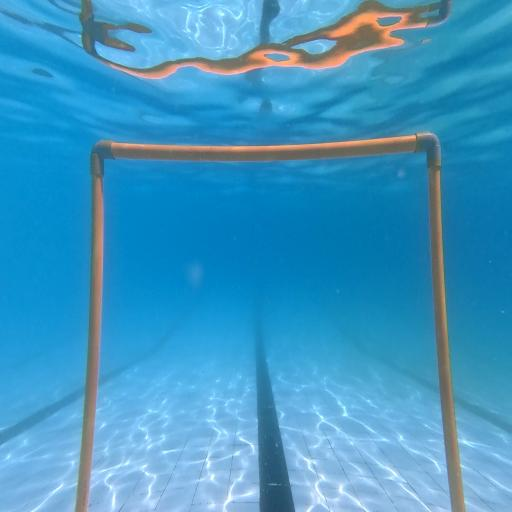gate: (76, 131, 465, 512)
